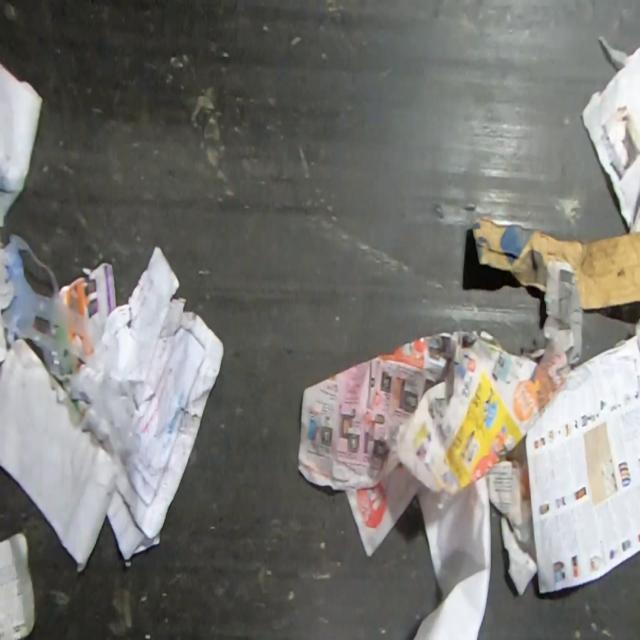cardboard: (470, 214, 640, 310)
soft_plastic: (0, 231, 121, 378)
